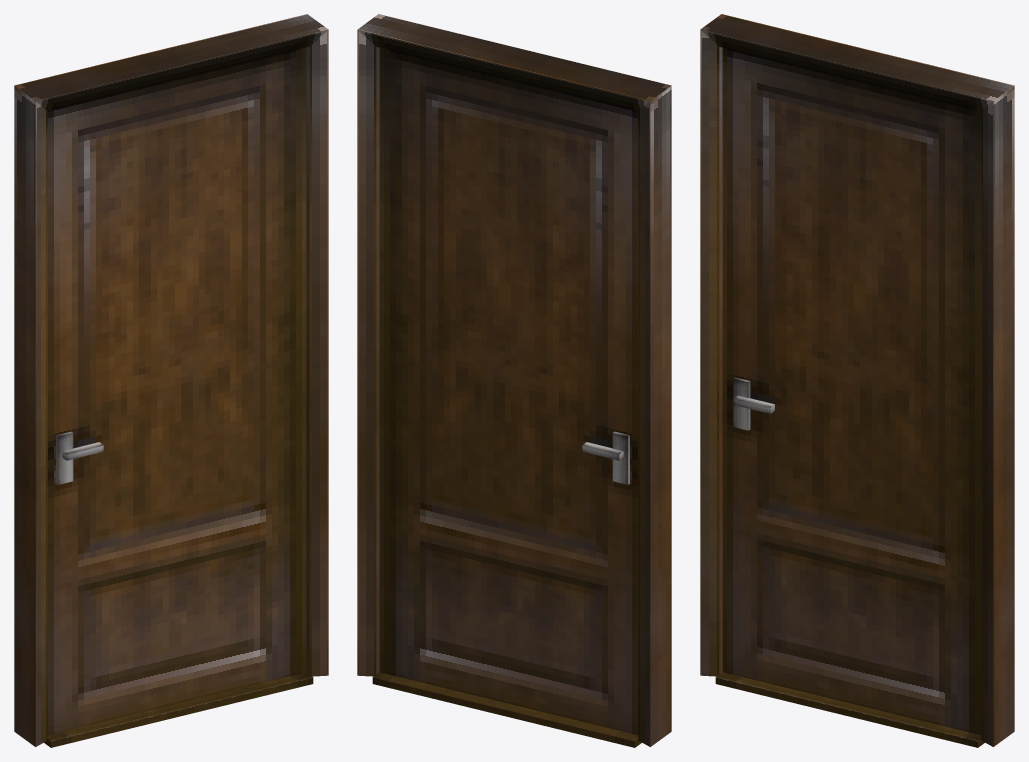
File: door_with_threshhold.glb
The picture shows the model from 3 angles, left to right: view 1: azimuth 30°, elevation 25°; view 2: azimuth 150°, elevation 25°; view 3: azimuth 330°, elevation 25°; orthographic projection.
Visible parts, largest first — view 1: Cube.002, Cube.001, Cube, Cube.009; view 2: Cube.002, Cube.001, Cube, Cube.009; view 3: Cube.002, Cube.001, Cube, Cube.009.
Boxes of the visible parts, x1,y1,x2,y2 form: Cube.002: (47, 48, 306, 735); Cube.001: (14, 14, 328, 746); Cube: (44, 672, 313, 747); Cube.009: (56, 431, 103, 484); Cube.002: (379, 48, 638, 735); Cube.001: (357, 14, 671, 746); Cube: (372, 672, 641, 747); Cube.009: (582, 431, 629, 484); Cube.002: (722, 48, 981, 735); Cube.001: (700, 14, 1014, 746); Cube: (715, 672, 984, 747); Cube.009: (733, 377, 774, 430).
Size of the model in its own units: 0.95 by 2.01 by 0.12.
3 materials, 3 textured.
